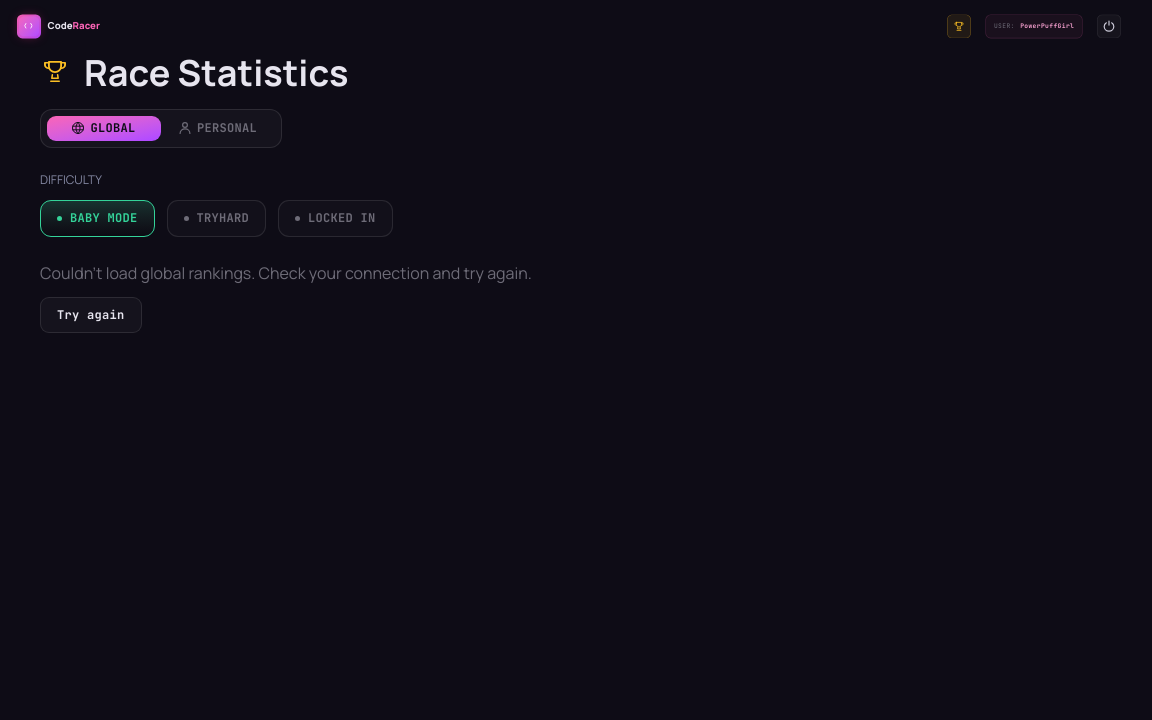
Scenario: StatisticsPage › shows an error with a retry that refetches the global leaderboard
Click the button "Try again". click: [91, 315]
box: [40, 297, 142, 333]
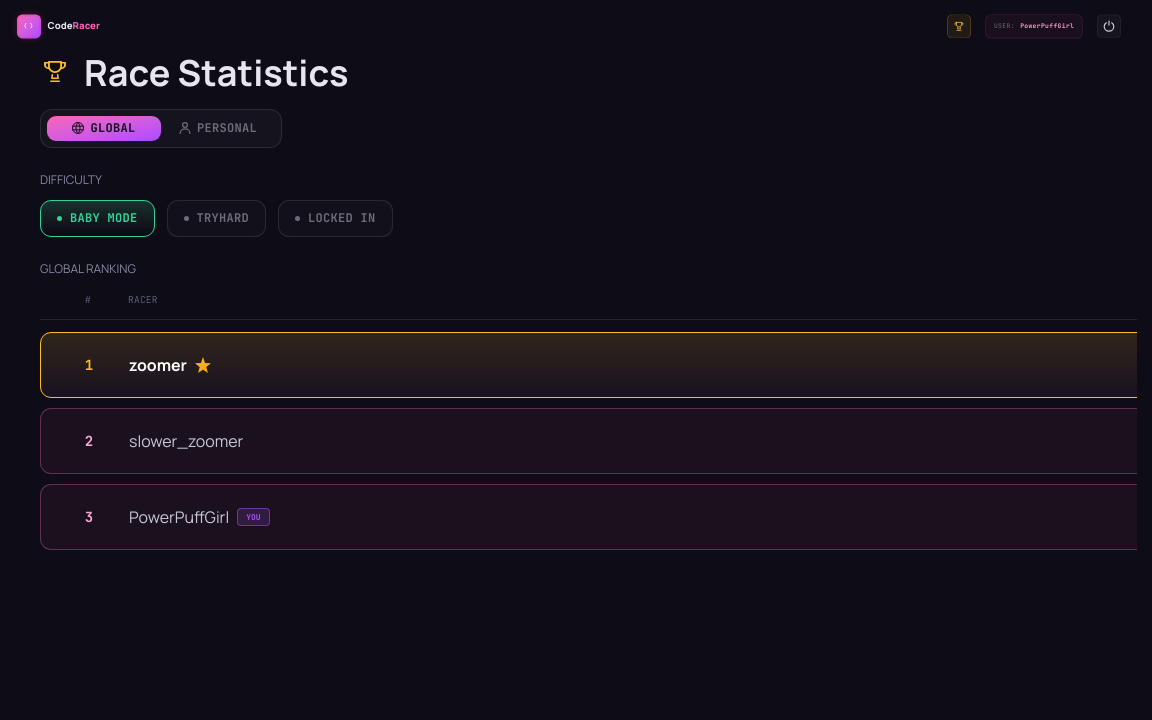
Expected: the text "zoomer" is shown, [129, 353, 187, 377]
